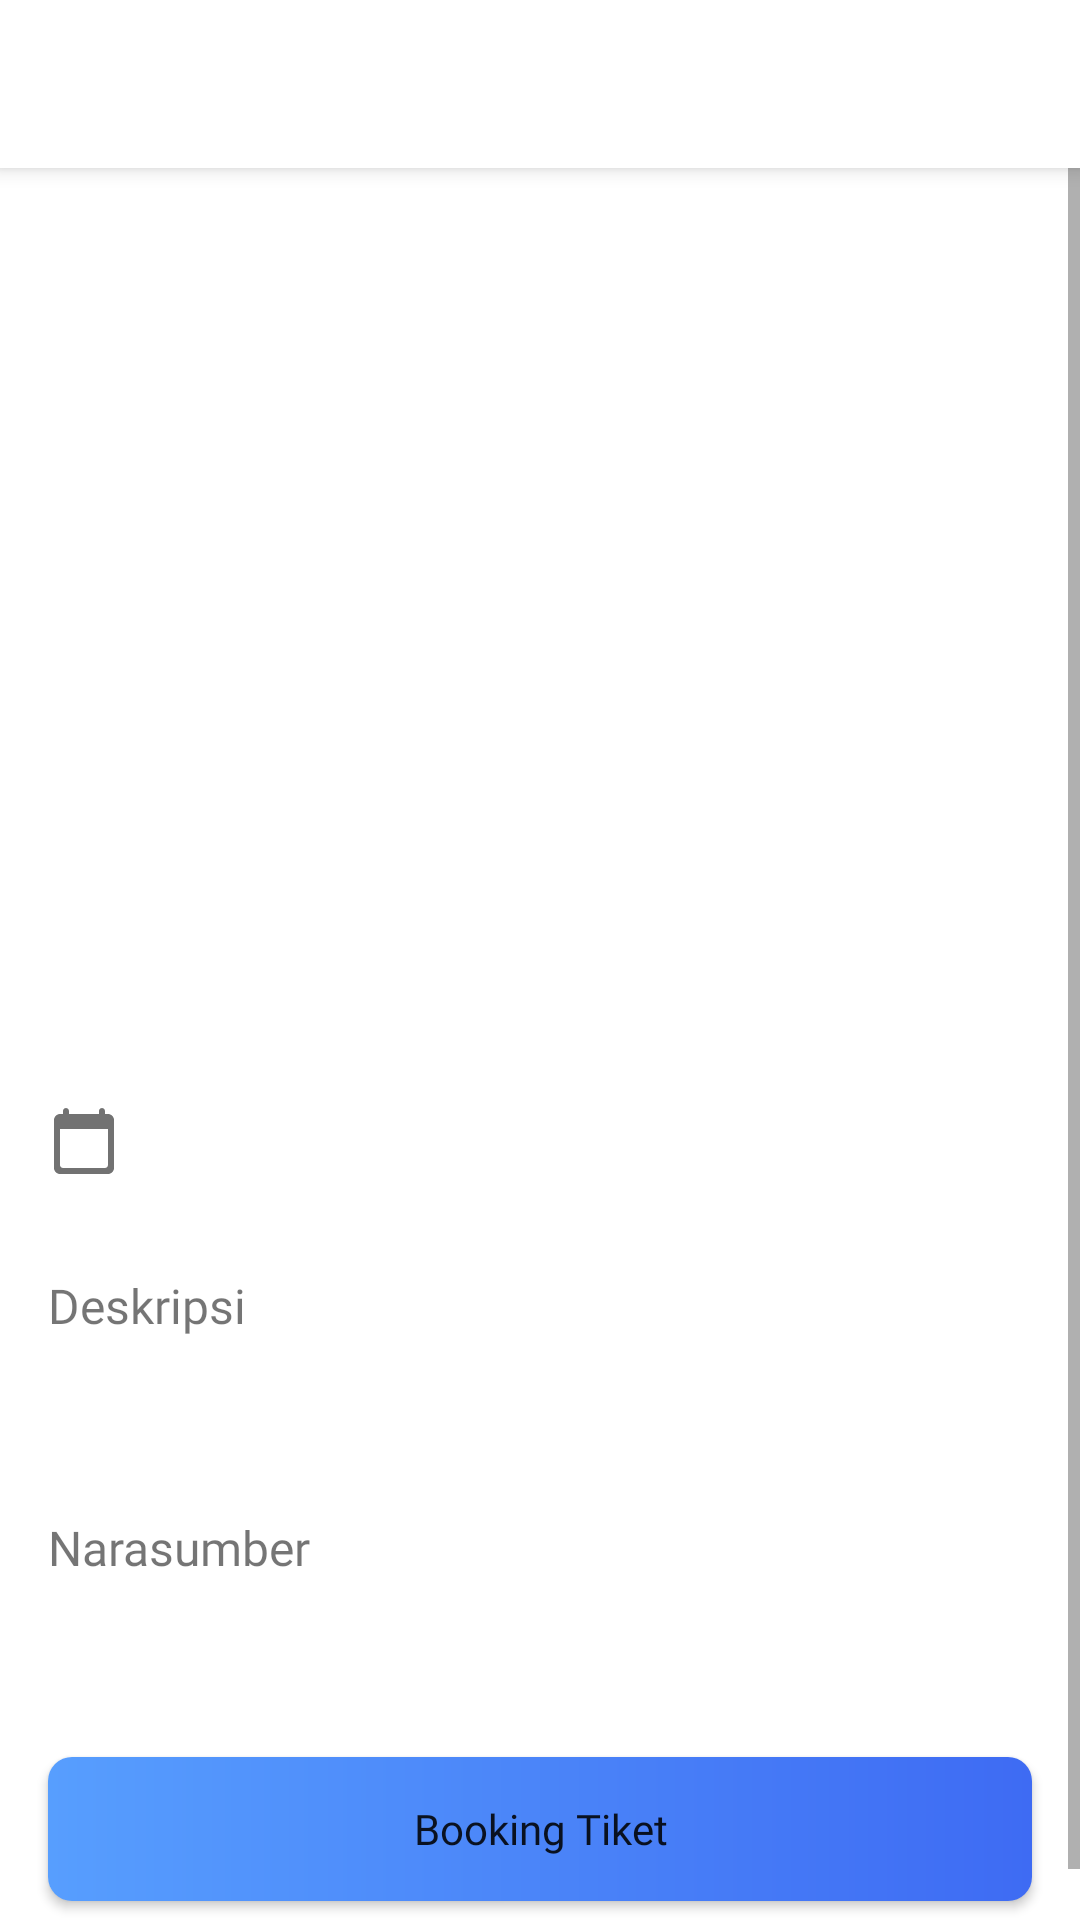

Icons on this 1080×1920 Android screen, each with its box as bbox(x1, y1, x2, y2):
calendar today: bbox(54, 1108, 114, 1174)
